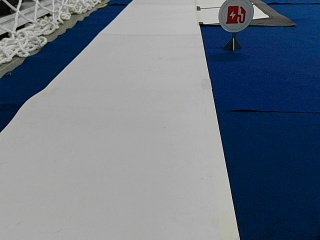battery: (218, 0, 254, 33)
